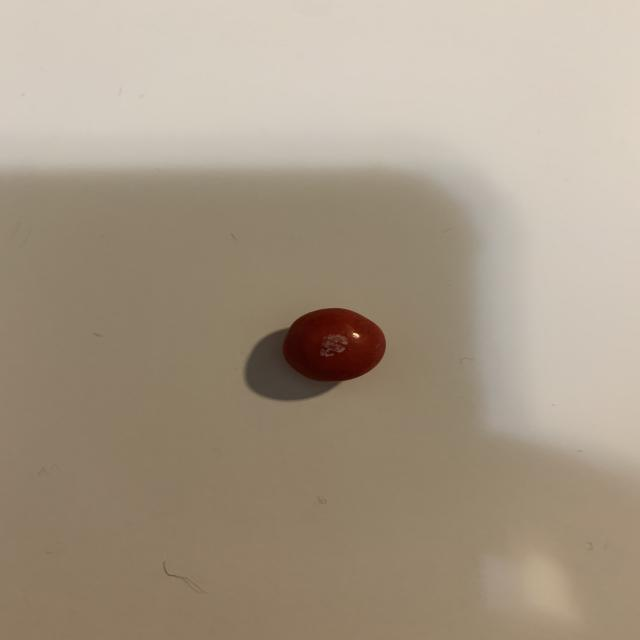smartie: (282, 308, 386, 381)
